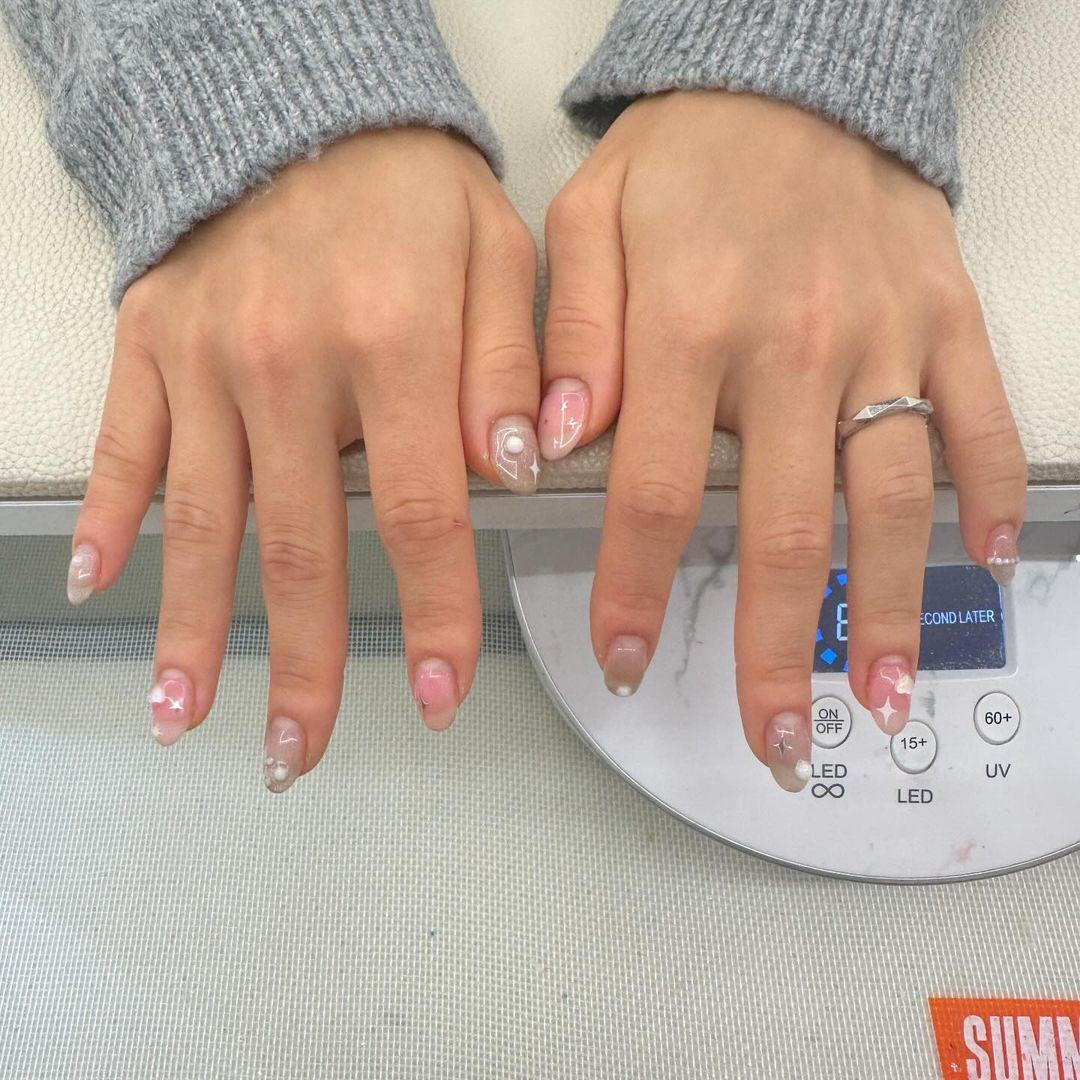nail: (536, 376, 590, 461), (488, 413, 540, 495), (763, 709, 812, 792), (864, 652, 913, 734), (147, 667, 194, 745), (411, 655, 458, 731), (262, 714, 306, 793), (602, 632, 648, 697), (982, 522, 1019, 585), (65, 540, 100, 604)
